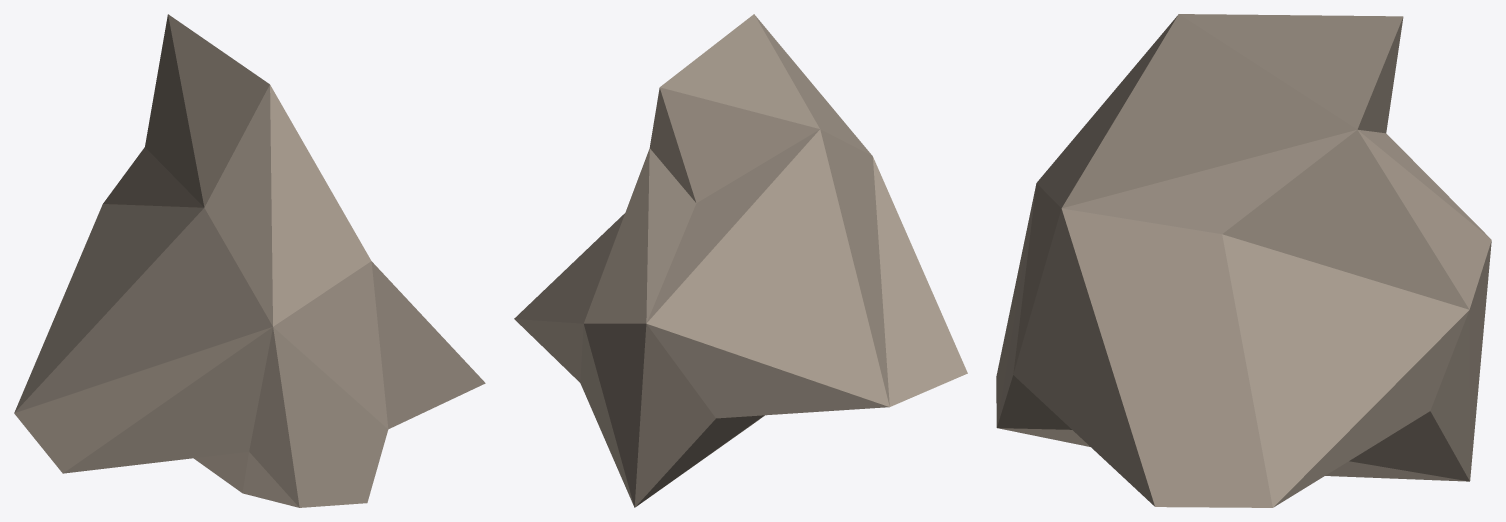
The model's file is SM_Bones_15.fbx.
3 renders of one model, left to right at view 1: azimuth 30°, elevation 25°; view 2: azimuth 150°, elevation 25°; view 3: azimuth 270°, elevation 25°, orthographic. The views are drawn at different scales.
Visible parts, largest first — view 1: SM_Bones_15; view 2: SM_Bones_15; view 3: SM_Bones_15.
Boxes of the visible parts, left/top/right/bottom form: SM_Bones_15: left=14, top=14, right=485, bottom=507; SM_Bones_15: left=514, top=14, right=967, bottom=507; SM_Bones_15: left=996, top=14, right=1491, bottom=507.
Size of the model in its own units: 11.15 by 10.55 by 10.08.
Materials: 1 (1 with a texture image).
